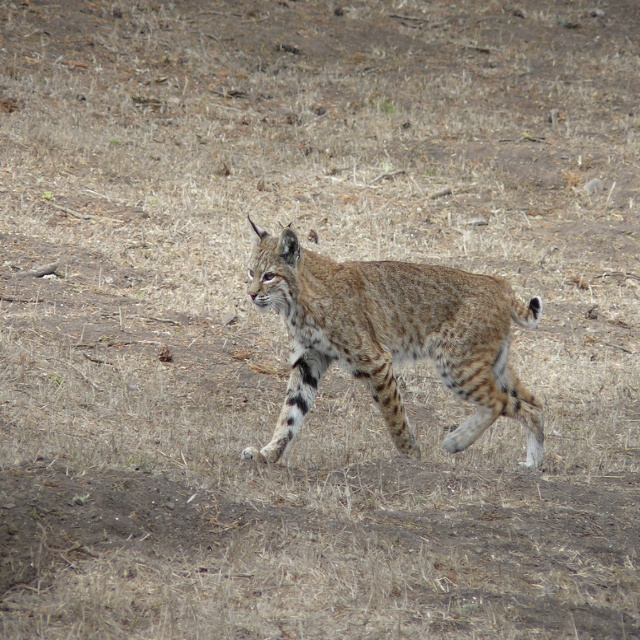Lynx: (247, 214, 544, 467)
